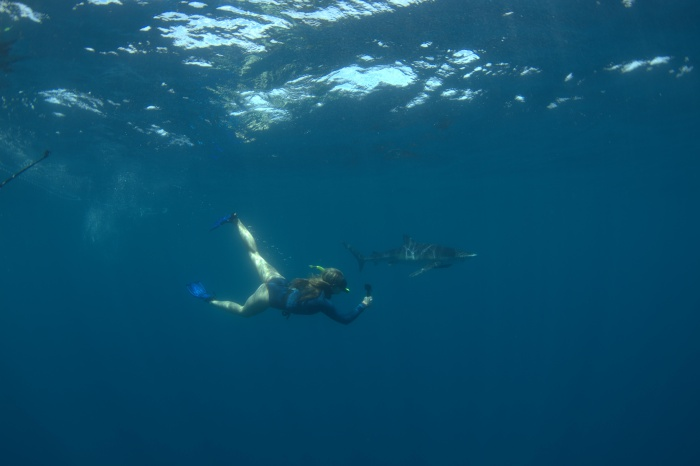Azul: (9, 159, 435, 435), (345, 209, 529, 294)
